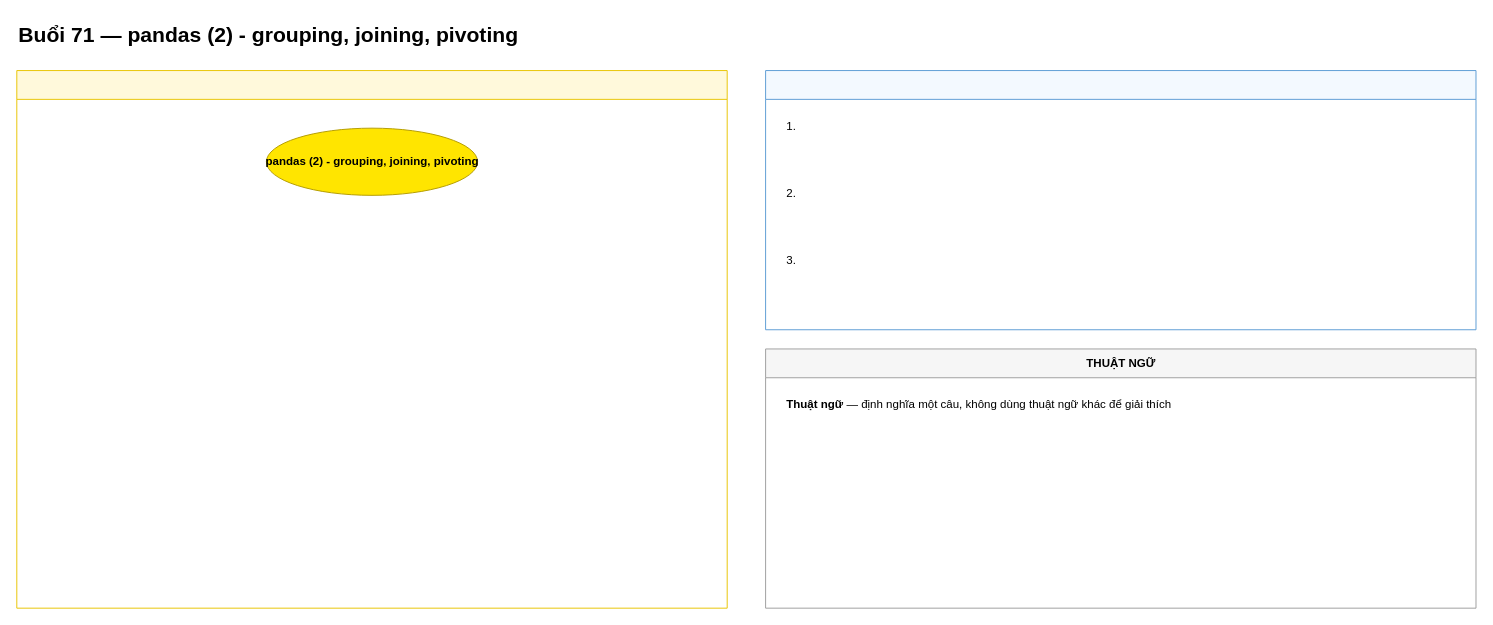
Image size: 1493x625. Some labels were removed from this diagram. Here are the shapes that lost their labels. From the top down, the box of each, then its label:
(765, 70, 1476, 330): KEY TAKEAWAY — ba điều phải nhớ
(16, 70, 727, 608): MINDMAP
